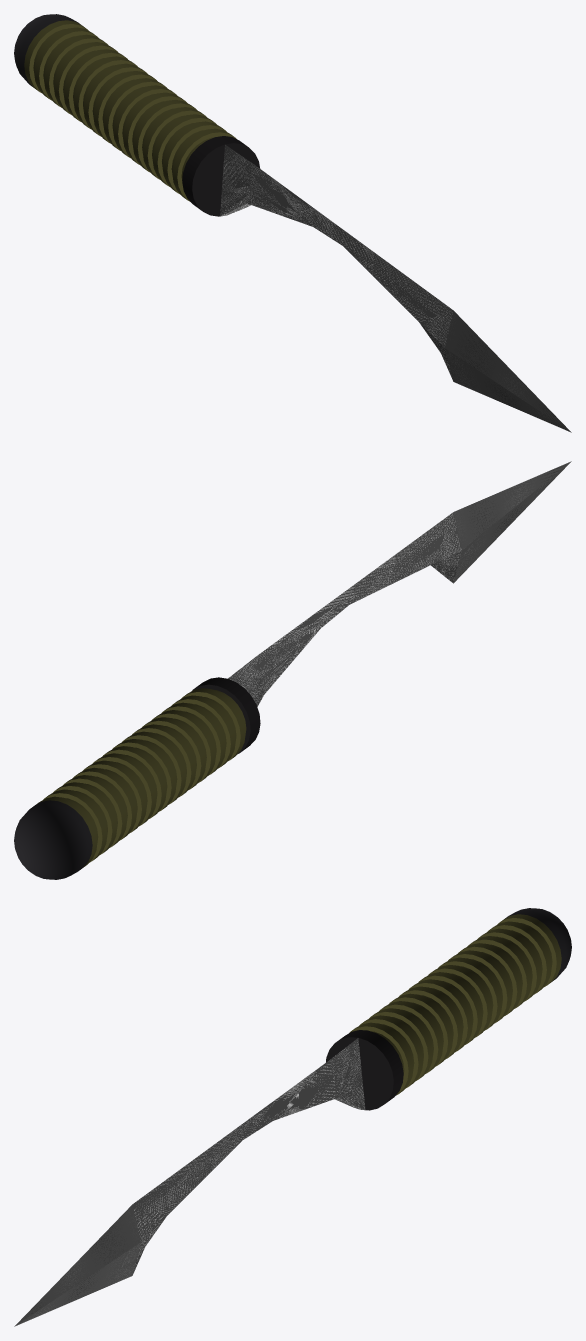
The model's file is model_align.obj.
The picture shows the model from 3 angles, top to bottom: view 1: azimuth 30°, elevation 25°; view 2: azimuth 150°, elevation 25°; view 3: azimuth 330°, elevation 25°; orthographic projection.
Visible parts, largest first — view 1: mesh89_mesh89-geometry, mesh86_mesh86-geometry, mesh1_mesh1-geometry, mesh46_mesh46-geometry, mesh51_mesh51-geometry, mesh66_mesh66-geometry, mesh81_mesh81-geometry, mesh26_mesh26-geometry, mesh61_mesh61-geometry, mesh16_mesh16-geometry, mesh21_mesh21-geometry, mesh11_mesh11-geometry (+8 smaller); view 2: mesh89_mesh89-geometry, mesh1_mesh1-geometry, mesh6_mesh6-geometry, mesh81_mesh81-geometry, mesh51_mesh51-geometry, mesh46_mesh46-geometry, mesh16_mesh16-geometry, mesh41_mesh41-geometry, mesh66_mesh66-geometry, mesh21_mesh21-geometry, mesh26_mesh26-geometry, mesh36_mesh36-geometry (+8 smaller); view 3: mesh89_mesh89-geometry, mesh86_mesh86-geometry, mesh1_mesh1-geometry, mesh46_mesh46-geometry, mesh66_mesh66-geometry, mesh51_mesh51-geometry, mesh21_mesh21-geometry, mesh26_mesh26-geometry, mesh61_mesh61-geometry, mesh81_mesh81-geometry, mesh16_mesh16-geometry, mesh11_mesh11-geometry (+8 smaller).
Part boxes in pixels (x1,y1,x2,y2): mesh89_mesh89-geometry: (220,144,571,432); mesh86_mesh86-geometry: (187,139,260,216); mesh1_mesh1-geometry: (14,14,80,87); mesh46_mesh46-geometry: (142,107,206,179); mesh51_mesh51-geometry: (54,42,117,114); mesh66_mesh66-geometry: (34,27,98,100); mesh81_mesh81-geometry: (162,121,226,194); mesh26_mesh26-geometry: (83,63,147,136); mesh61_mesh61-geometry: (172,128,236,201); mesh16_mesh16-geometry: (73,56,137,129); mesh21_mesh21-geometry: (63,49,127,121); mesh11_mesh11-geometry: (24,20,88,92); mesh89_mesh89-geometry: (228,461,571,706); mesh1_mesh1-geometry: (14,800,92,879); mesh6_mesh6-geometry: (122,731,186,804); mesh81_mesh81-geometry: (171,695,236,768); mesh51_mesh51-geometry: (63,775,127,847); mesh46_mesh46-geometry: (152,710,216,782); mesh16_mesh16-geometry: (83,760,147,833); mesh41_mesh41-geometry: (53,782,117,855); mesh66_mesh66-geometry: (43,789,107,862); mesh21_mesh21-geometry: (73,767,137,840); mesh26_mesh26-geometry: (92,753,157,826); mesh36_mesh36-geometry: (142,717,206,789); mesh89_mesh89-geometry: (14,1038,365,1326); mesh86_mesh86-geometry: (326,1033,398,1110); mesh1_mesh1-geometry: (505,908,571,981); mesh46_mesh46-geometry: (379,1001,443,1073); mesh66_mesh66-geometry: (487,921,551,994); mesh51_mesh51-geometry: (467,936,531,1008); mesh21_mesh21-geometry: (458,943,522,1015); mesh26_mesh26-geometry: (438,957,502,1030); mesh61_mesh61-geometry: (349,1022,413,1095); mesh81_mesh81-geometry: (359,1015,423,1088); mesh16_mesh16-geometry: (448,950,512,1023); mesh11_mesh11-geometry: (497,914,561,986).
Bounding box in the file's own units: 0.0164 × 0.0164 × 0.2229.
6 materials, 1 textured.
